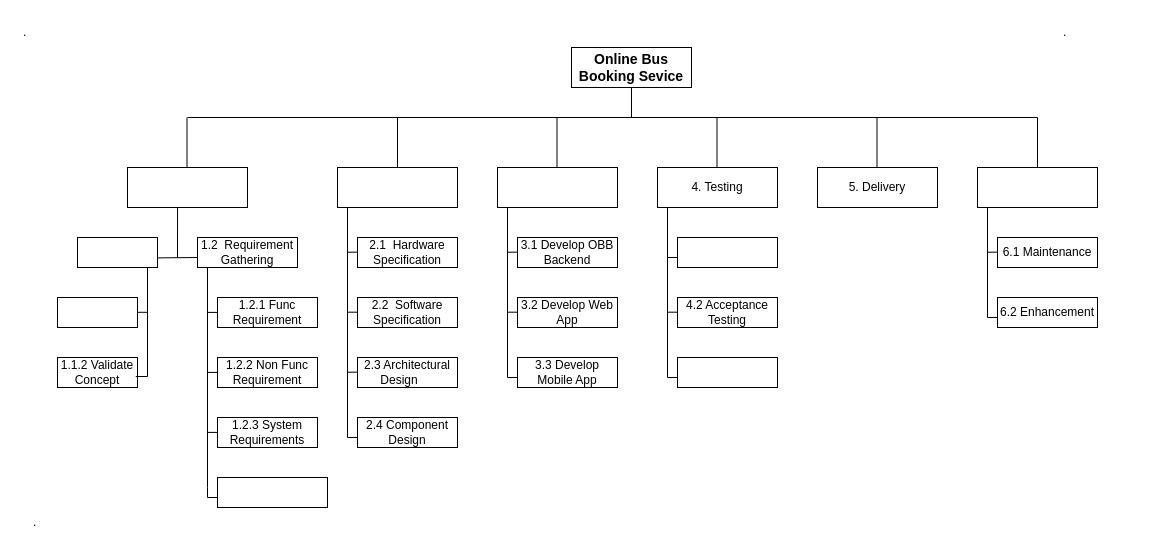
Some shapes in this 1154 by 554 pixel diagram are drawn without their labels. The box of each missing label's shape, as (x1, y1, x2, y2) in pixels:
1. Concept: (126, 166, 248, 208)
1.1 Planning: (76, 236, 158, 268)
1.1.1 WireFrame: (56, 296, 138, 328)
1.2.4 Requirement Validation: (216, 476, 328, 508)
2. System Design: (336, 166, 458, 208)
3. Implementation: (496, 166, 618, 208)
4.1 Integration Testing: (676, 236, 778, 268)
4.3 Bug Fix: (676, 356, 778, 388)
6. Support: (976, 166, 1098, 208)
